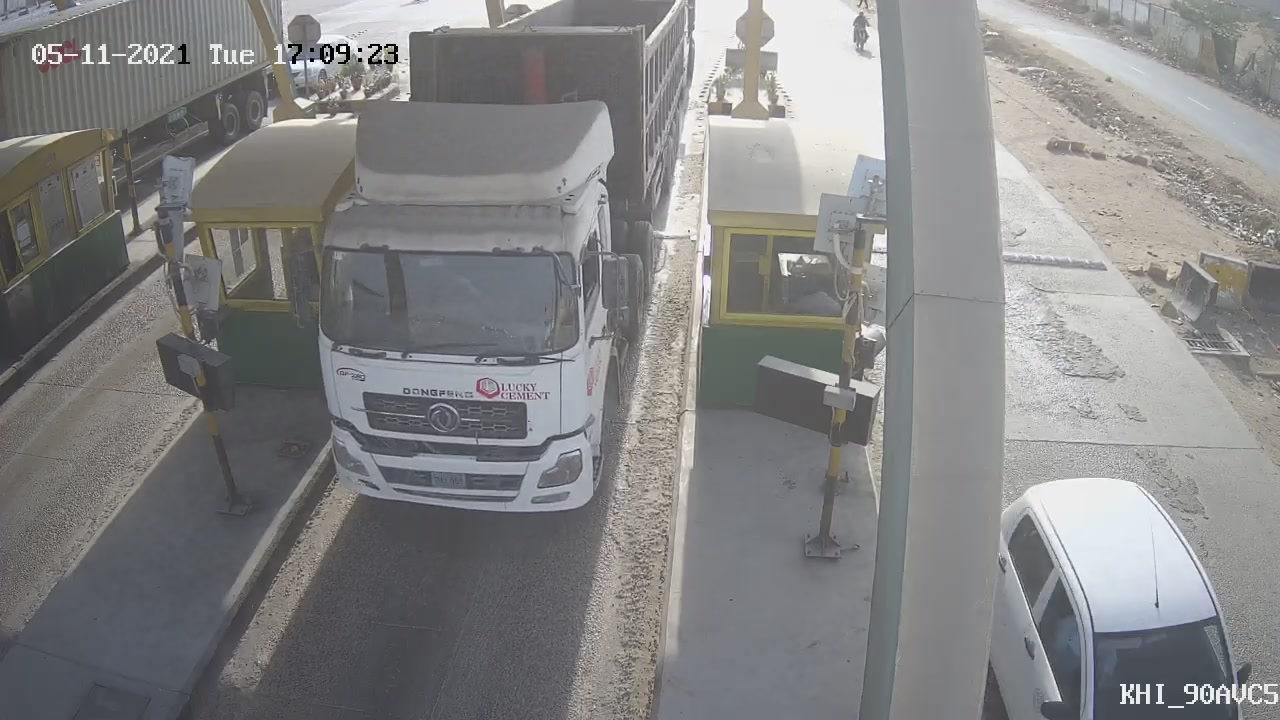F6: (273, 1, 707, 533)
